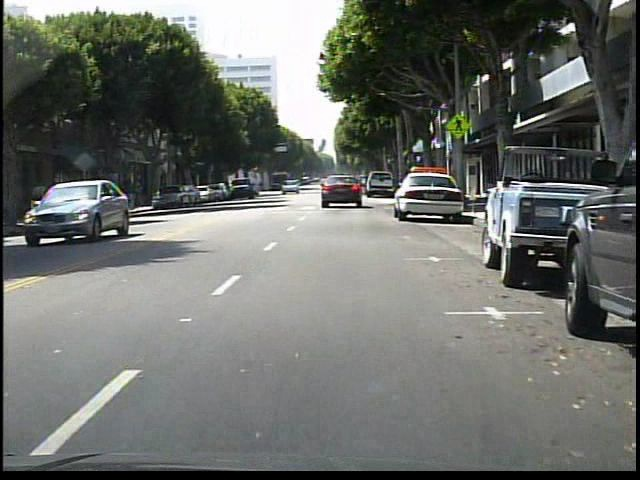person: (33, 179, 53, 224)
